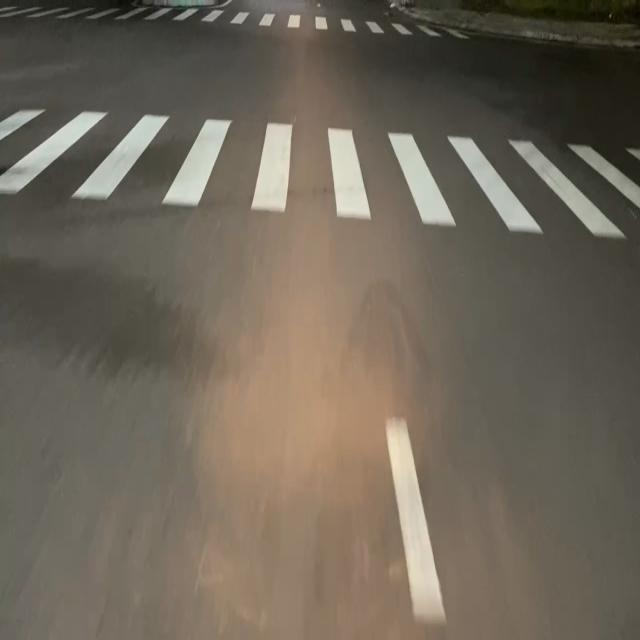walk-crossing: (0, 106, 640, 237), (5, 0, 474, 42)
